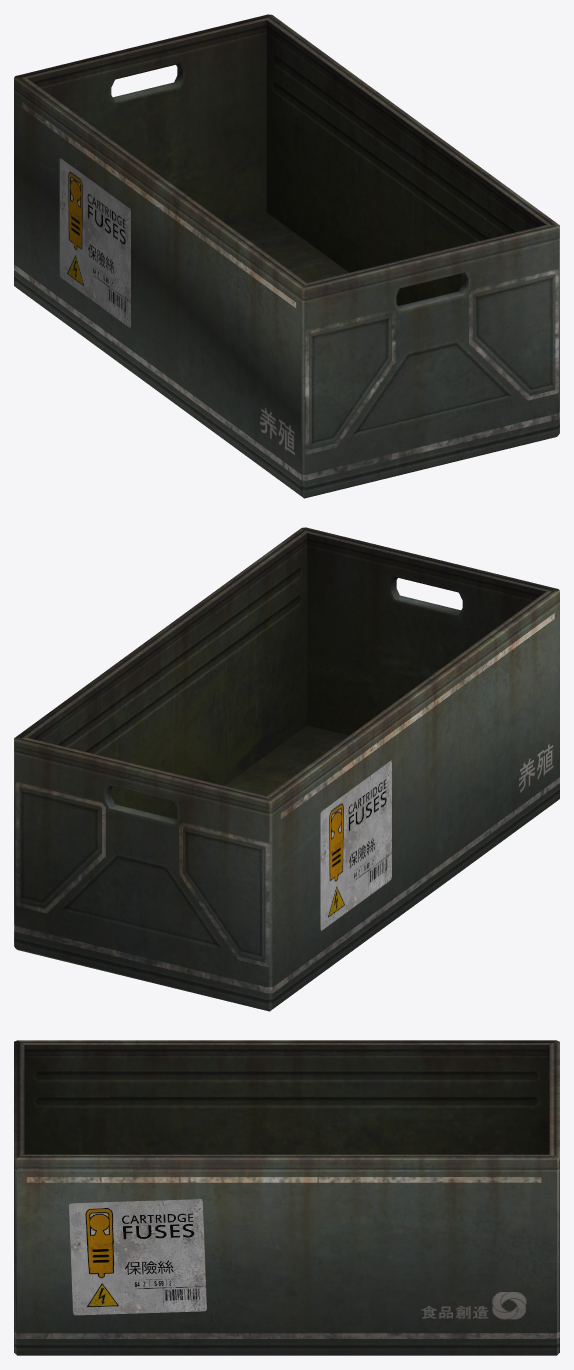
File: box_spare_fuses.dae
3 views of the same model, one above another, from view 1: azimuth 30°, elevation 25°; view 2: azimuth 150°, elevation 25°; view 3: azimuth 270°, elevation 25° (orthographic). The views are drawn at different scales.
Parts seen in each view (by area): view 1: algea_crate, Mesh__2_; view 2: algea_crate, Mesh__2_; view 3: algea_crate, Mesh__2_.
Part boxes in pixels (box(x1,y1,x2,y2)): algea_crate: box(14, 14, 559, 498); Mesh__2_: box(59, 158, 130, 327); algea_crate: box(14, 527, 559, 1011); Mesh__2_: box(320, 760, 391, 930); algea_crate: box(14, 1040, 559, 1355); Mesh__2_: box(68, 1199, 206, 1315).
Size of the model in its own units: 0.5187 by 0.4012 by 1.
